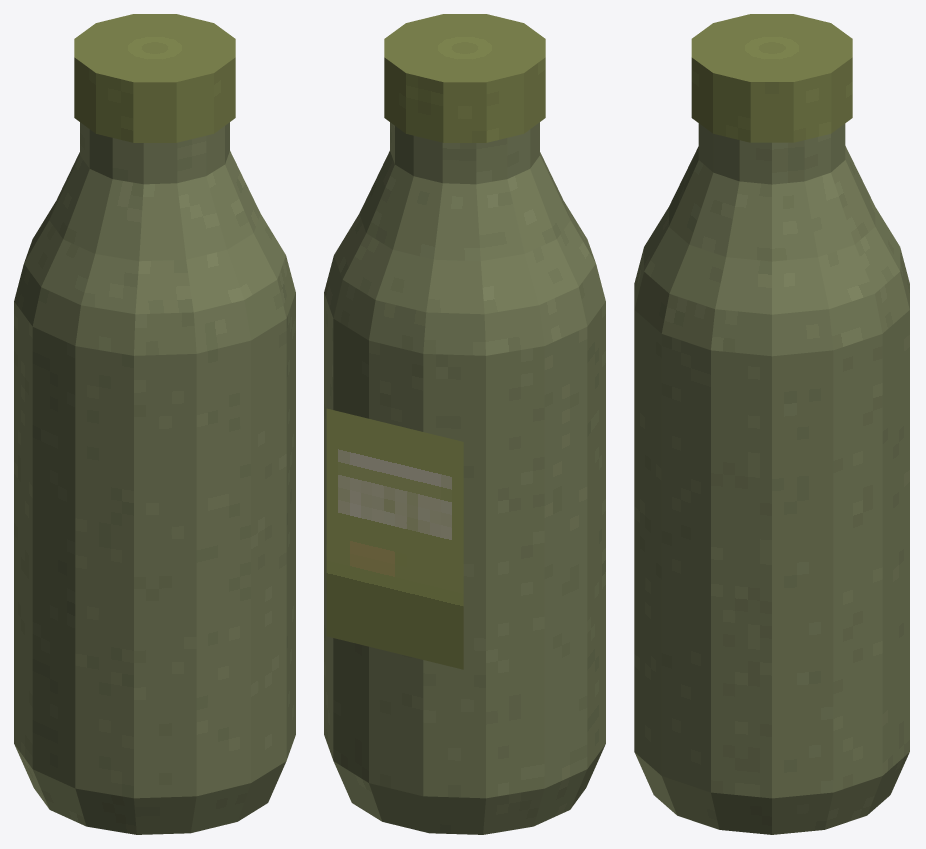
The model's file is dandelion_wine.glb.
The picture shows the model from 3 angles, left to right: view 1: azimuth 30°, elevation 25°; view 2: azimuth 150°, elevation 25°; view 3: azimuth 270°, elevation 25°; orthographic projection.
Parts seen in each view (by area): view 1: block_bottle silhouette, block_foil cap; view 2: block_bottle silhouette, block_drink label, block_foil cap; view 3: block_bottle silhouette, block_foil cap.
Part boxes in pixels (x1,y1,x2,y2): block_bottle silhouette: (14,122,295,834); block_foil cap: (74,14,235,142); block_bottle silhouette: (324,122,605,834); block_drink label: (326,408,463,669); block_foil cap: (384,14,545,142); block_bottle silhouette: (634,123,909,834); block_foil cap: (691,14,852,142).
Bounding box in the file's own units: 0.057 × 0.1638 × 0.0559.
1 material, 1 textured.
